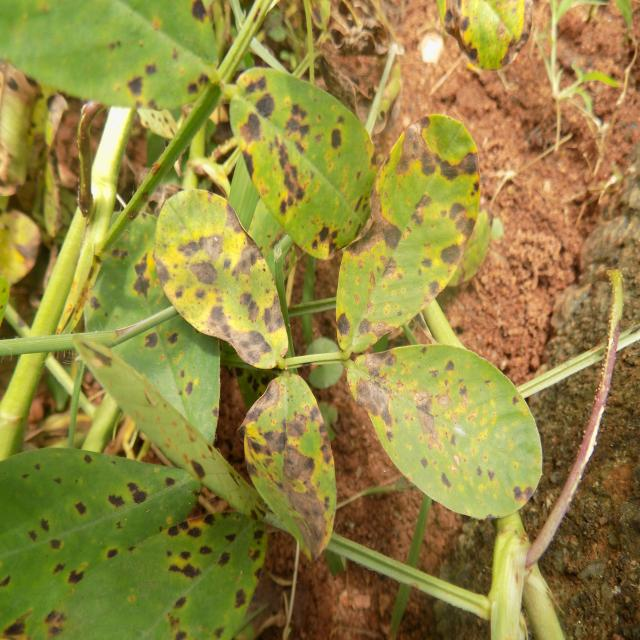Ground nut_tikka leaf spot: (2, 444, 264, 640), (343, 343, 544, 523), (335, 112, 482, 352), (228, 64, 372, 264), (153, 186, 288, 371), (241, 378, 334, 558)
